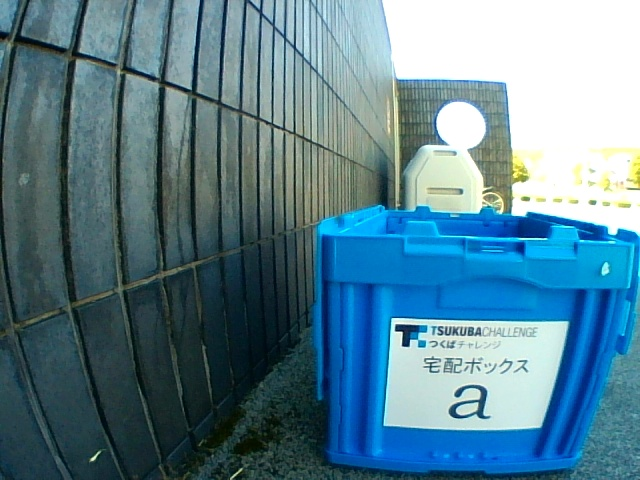blue_box: (314, 206, 640, 474)
tag_a: (396, 323, 541, 424)
